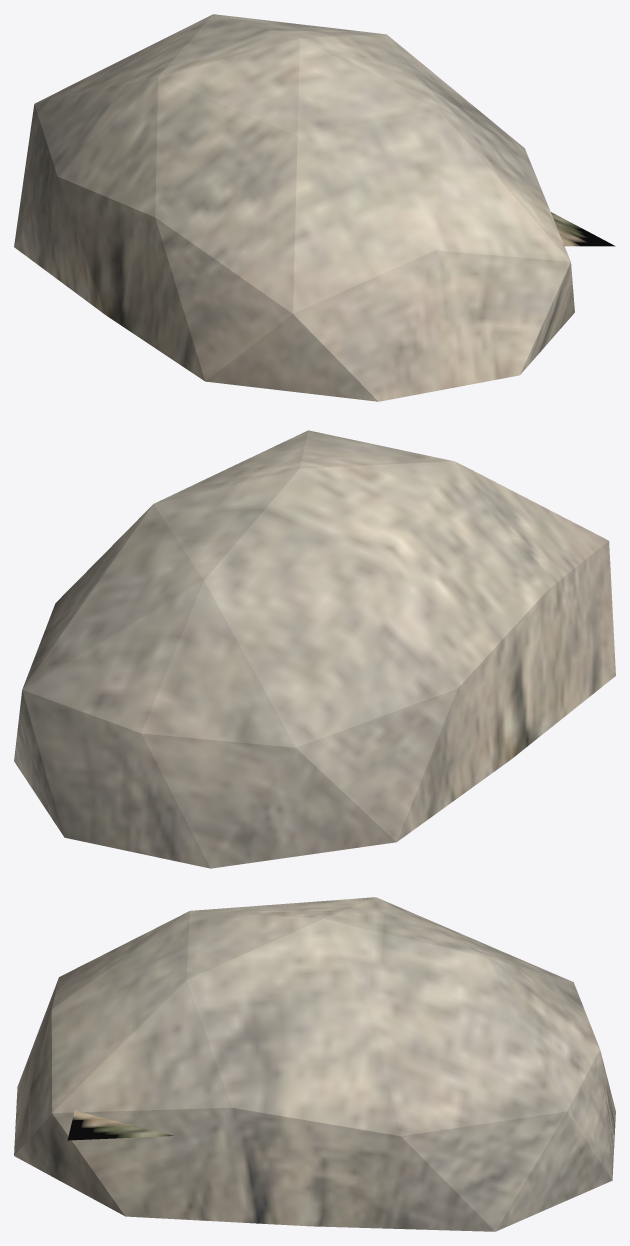
File: pillow.glb
The picture shows the model from 3 angles, top to bottom: view 1: azimuth 30°, elevation 25°; view 2: azimuth 150°, elevation 25°; view 3: azimuth 270°, elevation 25°; orthographic projection. The views are drawn at different scales.
Visible parts, largest first — view 1: pillow; view 2: pillow; view 3: pillow.
Boxes of the visible parts, left/top/right/bottom form: pillow: left=14, top=14, right=615, bottom=401; pillow: left=14, top=430, right=615, bottom=868; pillow: left=14, top=897, right=615, bottom=1231.
Bounding box in the file's own units: 0.0292 × 0.0182 × 0.0426.
Materials: 1 (1 with a texture image).
